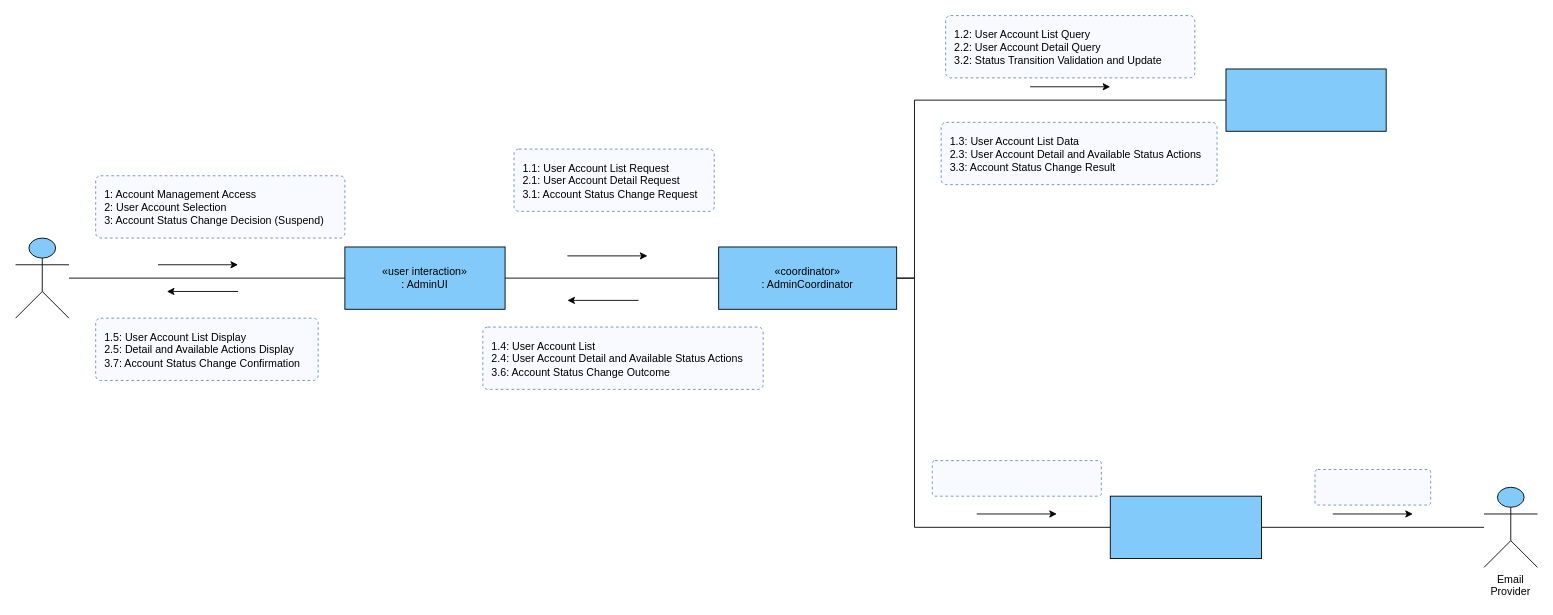
The diagram is 1553 pixels wide and 615 high, and some of its shapes have lost their labels. Here are the shapes that lost their labels. From the top down, the centre of each, then its label:
(x=1305, y=99): «entity» : UserAccount
(x=42, y=277): System Admin
(x=1016, y=478): 3.4: User Notification Request
(x=1372, y=487): 3.5: User Notification
(x=1185, y=526): «proxy» : EmailProxy
